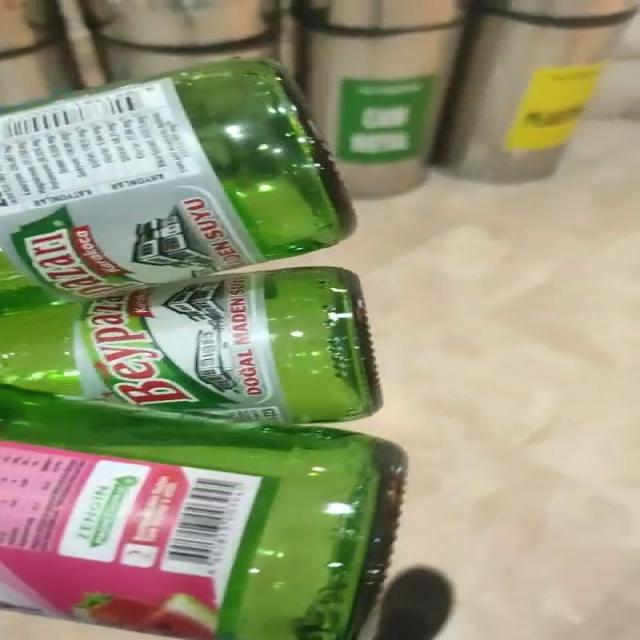glass: (1, 59, 405, 640)
